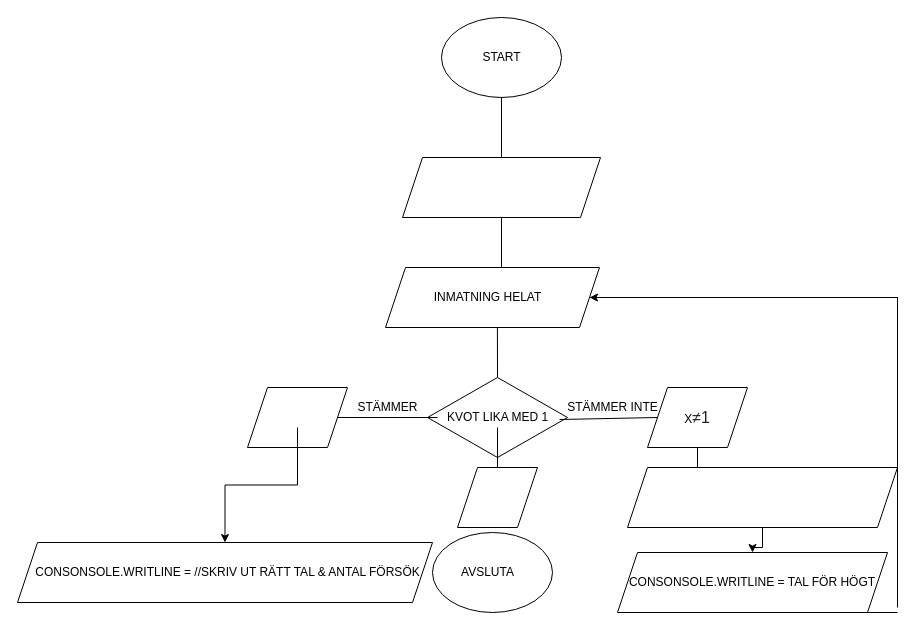
Some shapes in this 923 by 631 pixel diagram are drawn without their labels. The shapes that lost their labels are listed below. From the top down, each one's box as (x1, y1, x2, y2) in pixels, then its label:
(402, 156, 600, 218): GISSA RÄTT HELTAL
(246, 386, 348, 448): X=1
(456, 466, 538, 528): COUNTER
(626, 466, 898, 528): CONSONSOLE.WRITLINE = TAL FÖR LÅGT
